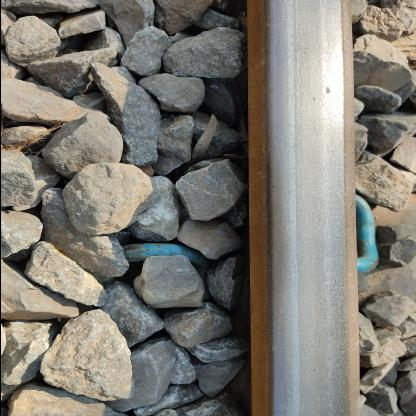Non Defective 1: (97, 178, 244, 315), (324, 183, 402, 311)
